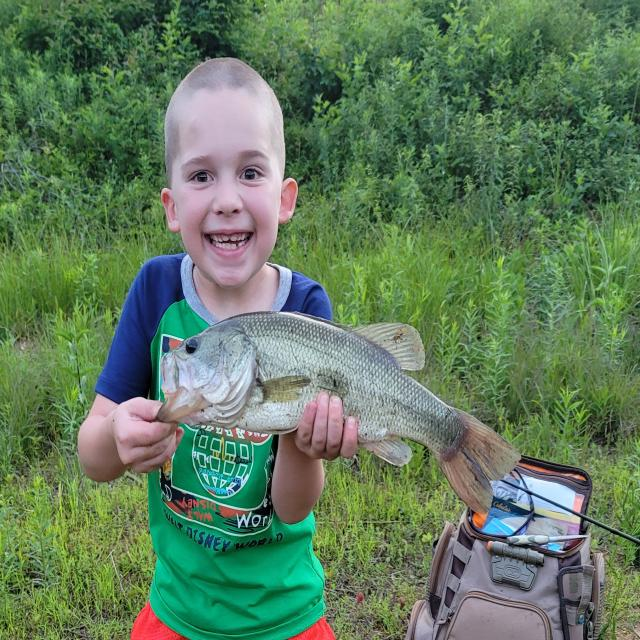Bass - Largemouth: (157, 312, 521, 513)
